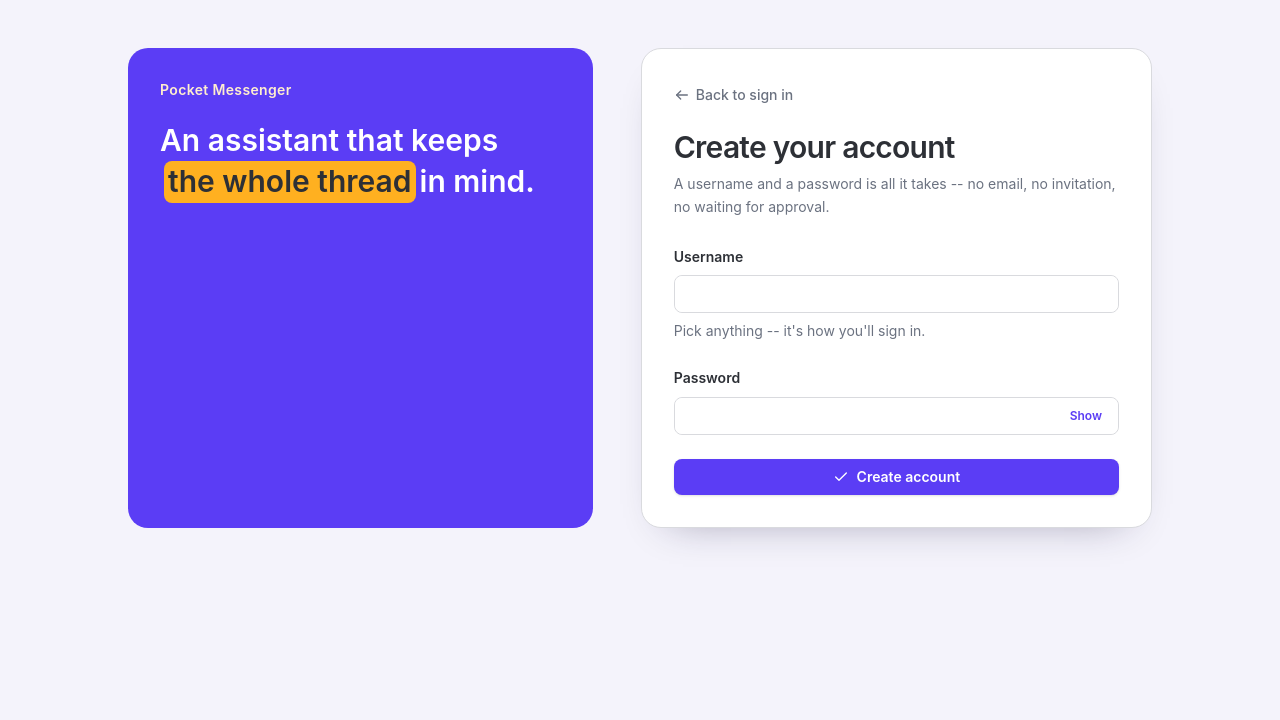
Test: Signup screen › [AC-003] shows a clear inline duplicate-username error with the username still populated
Type "alice" into the field labelled "Username" at point(896, 294), box [675, 276, 1118, 312]
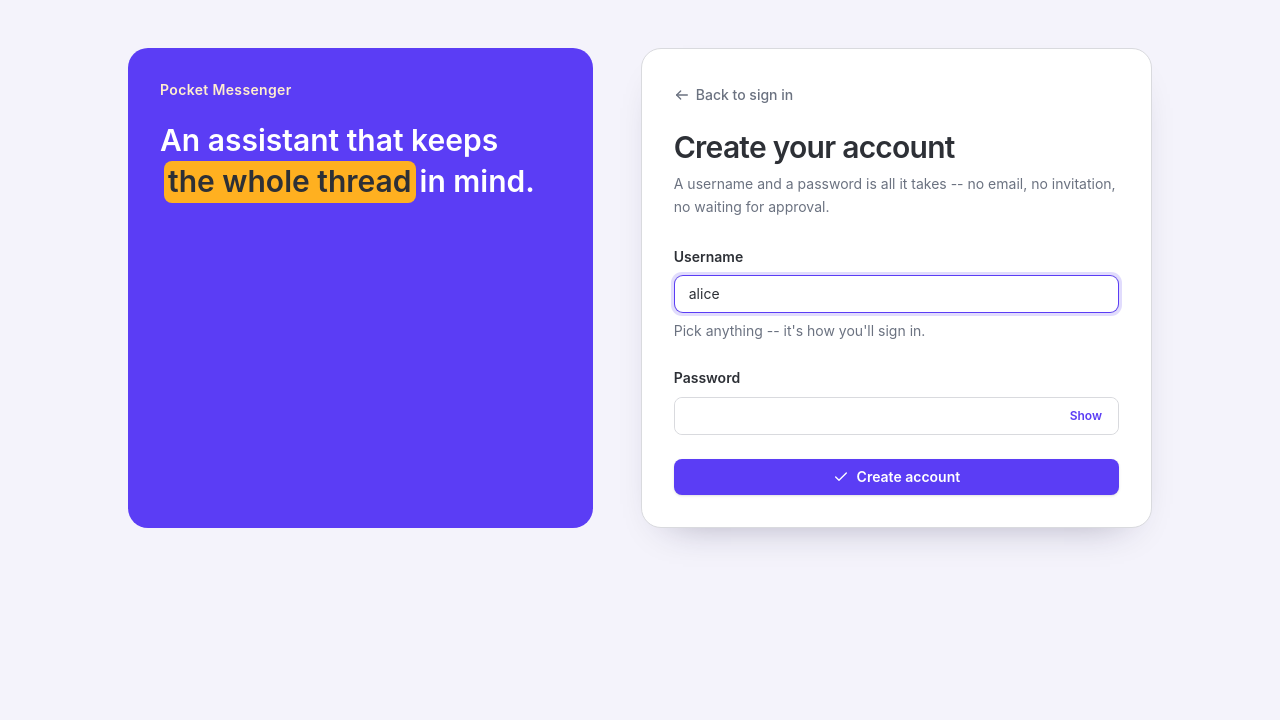
Type "a-strong-pass1" into the password field labelled "Password" at point(896, 416), box [675, 398, 1118, 434]
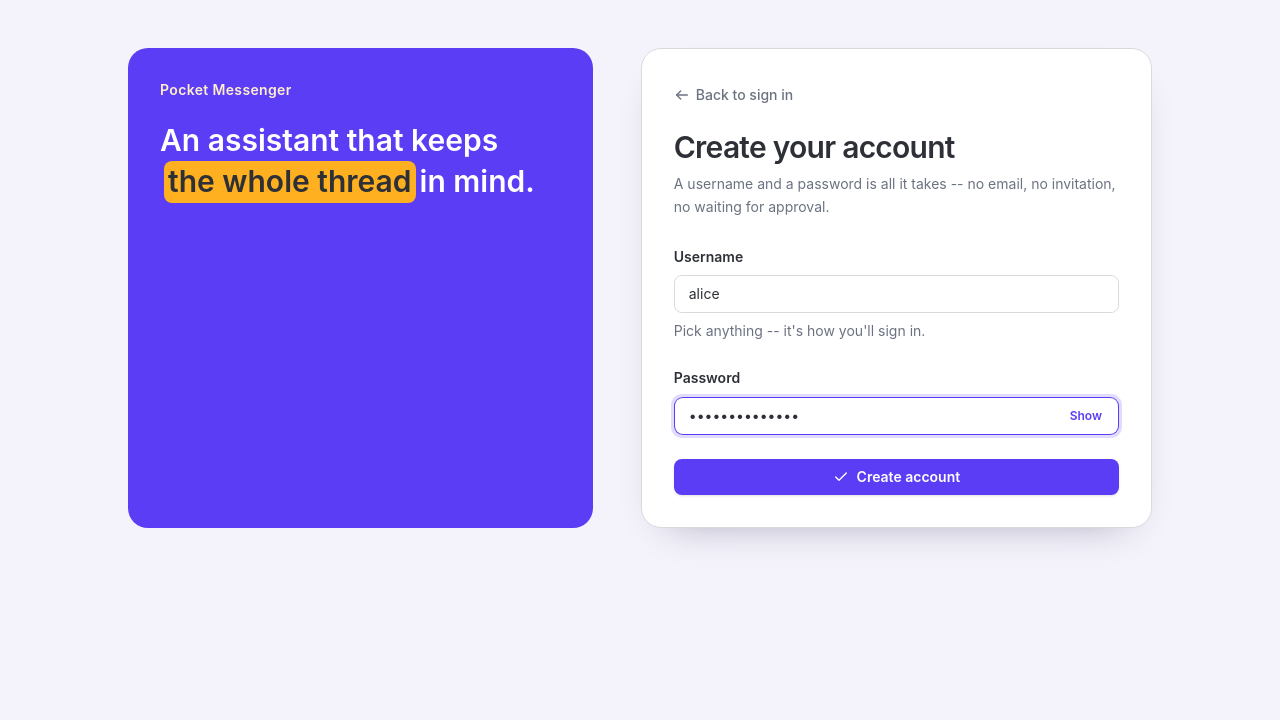
Click the button "Create account" at point(896, 476), box [674, 458, 1119, 494]
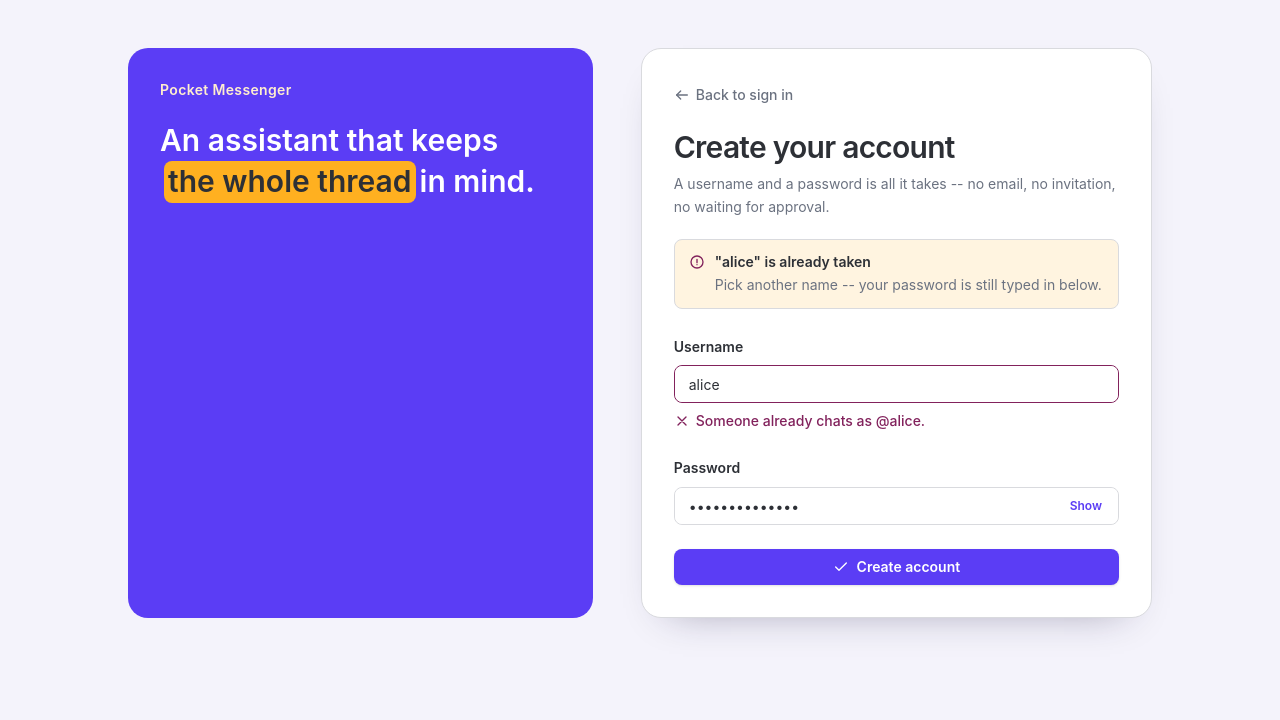
Check: the message shows "already taken", box [715, 252, 871, 270]
